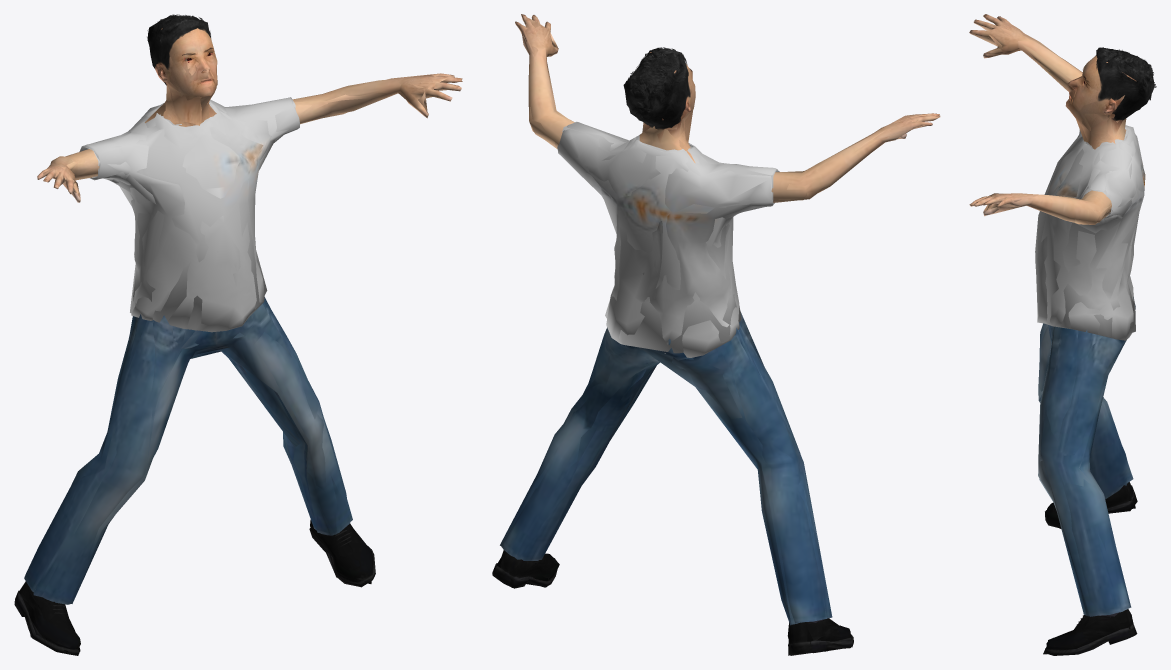
File: frozen-4.glb
3 renders of one model, left to right at view 1: azimuth 30°, elevation 25°; view 2: azimuth 150°, elevation 25°; view 3: azimuth 270°, elevation 25°, orthographic. The views are drawn at different scales.
Parts seen in each view (by area): view 1: near, far; view 2: near, far; view 3: near, far.
Boxes of the visible parts, x1,y1,x2,y2 form: near: [14, 14, 462, 655]; far: [17, 15, 462, 651]; near: [492, 14, 940, 655]; far: [495, 17, 938, 655]; near: [969, 14, 1156, 655]; far: [970, 14, 1149, 654].
Bounding box in the file's own units: 1.33 × 1.77 × 0.555.
2 materials, 2 textured.
